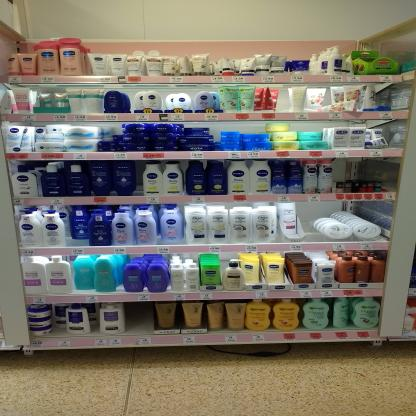empty_space: (126, 302, 156, 334), (277, 85, 291, 112)
